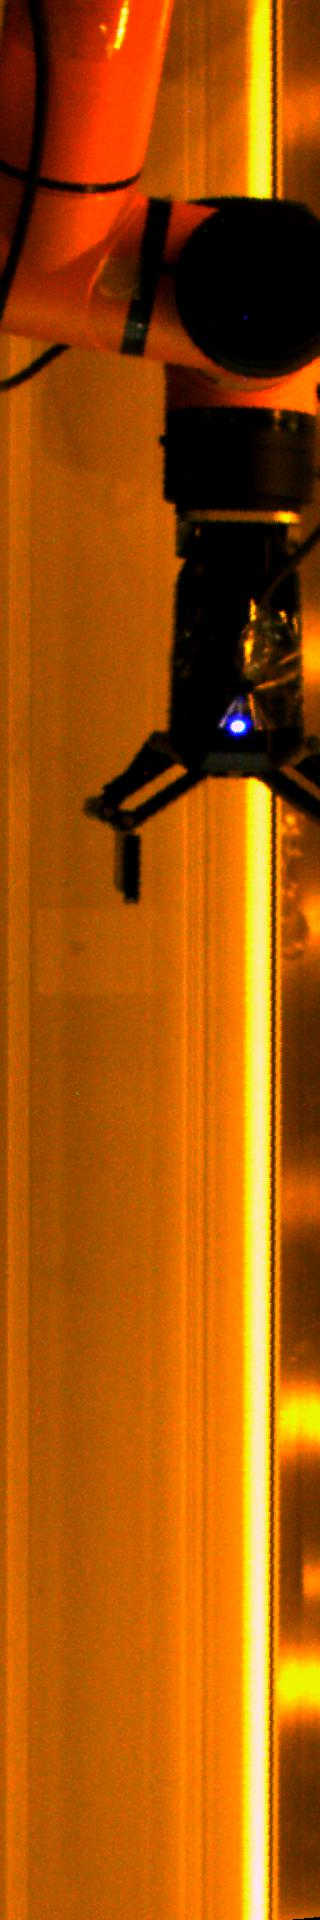keyPoint_1: (223, 711, 253, 741)
